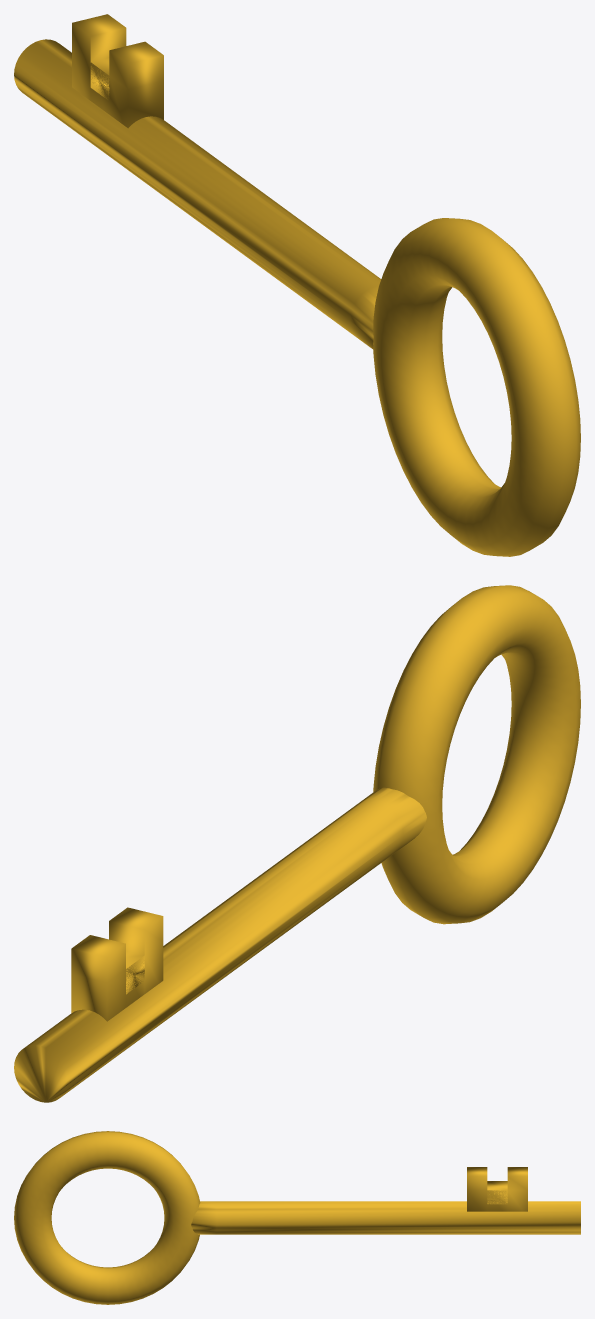
The model's file is key.fbx.
The picture shows the model from 3 angles, top to bottom: view 1: azimuth 30°, elevation 25°; view 2: azimuth 150°, elevation 25°; view 3: azimuth 270°, elevation 25°; orthographic projection. The views are drawn at different scales.
Visible parts, largest first — view 1: Key; view 2: Key; view 3: Key.
Boxes of the visible parts, left/top/right/bottom form: Key: left=14, top=14, right=580, bottom=556; Key: left=14, top=585, right=580, bottom=1102; Key: left=14, top=1131, right=580, bottom=1304.
Size of the model in its own units: 6.38 by 31.89 by 96.14.
